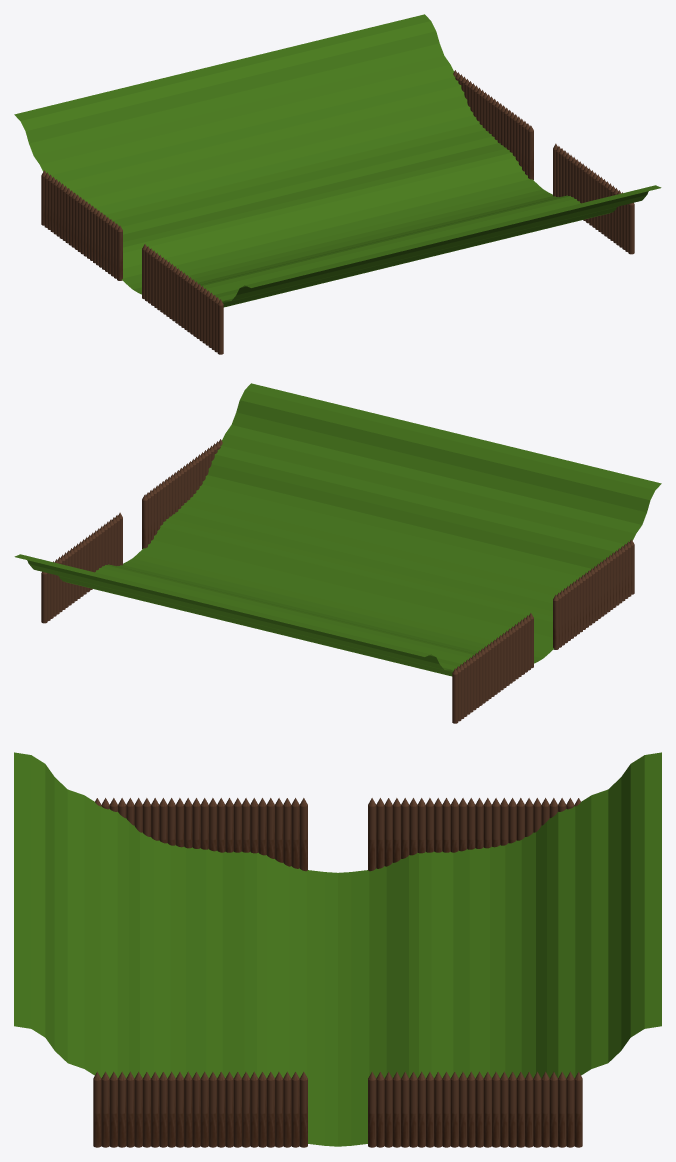
File: river_base.fbx
3 renders of one model, top to bottom at view 1: azimuth 30°, elevation 25°; view 2: azimuth 150°, elevation 25°; view 3: azimuth 270°, elevation 25°, orthographic. The views are drawn at different scales.
Parts seen in each view (by area): view 1: Plane, Cylinder; view 2: Plane, Cylinder; view 3: Plane, Cylinder.
Part boxes in pixels (bbox=[...]): Plane: bbox=[14, 14, 661, 307]; Cylinder: bbox=[41, 70, 634, 354]; Plane: bbox=[14, 383, 661, 676]; Cylinder: bbox=[41, 439, 634, 723]; Plane: bbox=[14, 752, 661, 1146]; Cylinder: bbox=[93, 798, 582, 1147].
Bounding box in the file's own units: 5064 × 1026 × 5000.
